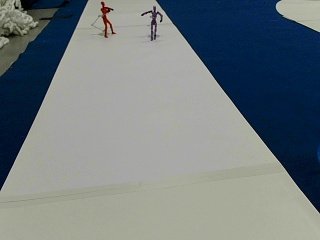pedestrian: (141, 4, 163, 39), (99, 1, 114, 36)
